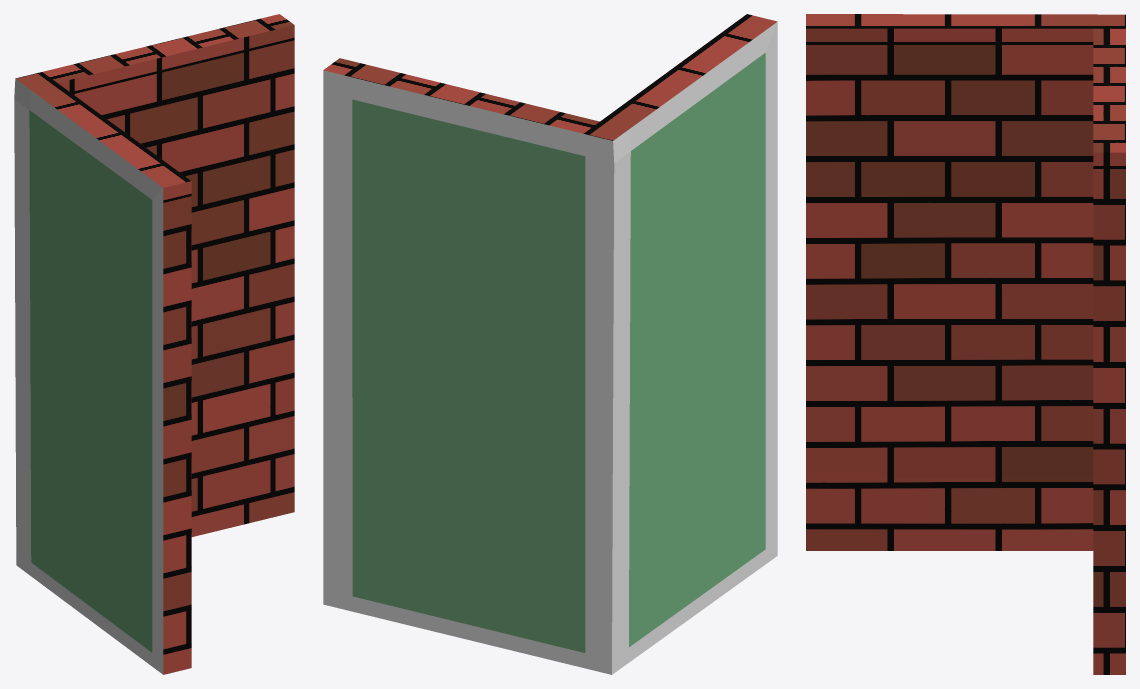
Rendered from Corner top B.fbx.
3 renders of one model, left to right at view 1: azimuth 30°, elevation 25°; view 2: azimuth 150°, elevation 25°; view 3: azimuth 270°, elevation 25°, orthographic. The views are drawn at different scales.
Parts seen in each view (by area): view 1: Corner-Top B; view 2: Corner-Top B; view 3: Corner-Top B.
Boxes of the visible parts, bbox=[...] form: Corner-Top B: bbox=[14, 14, 294, 674]; Corner-Top B: bbox=[323, 14, 777, 674]; Corner-Top B: bbox=[806, 14, 1125, 674].
Bounding box in the file's own units: 411 × 721 × 400.
